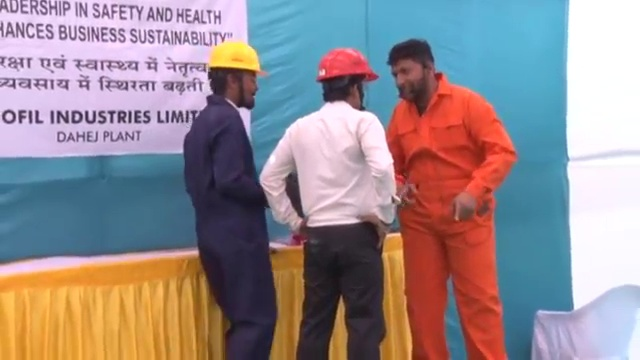helmet: (205, 38, 271, 79), (314, 44, 383, 81)
helmet_off: (388, 38, 437, 105)
helmet_on: (203, 38, 272, 111), (313, 44, 384, 112)
person: (260, 45, 399, 359), (382, 40, 516, 360), (180, 39, 274, 360)
